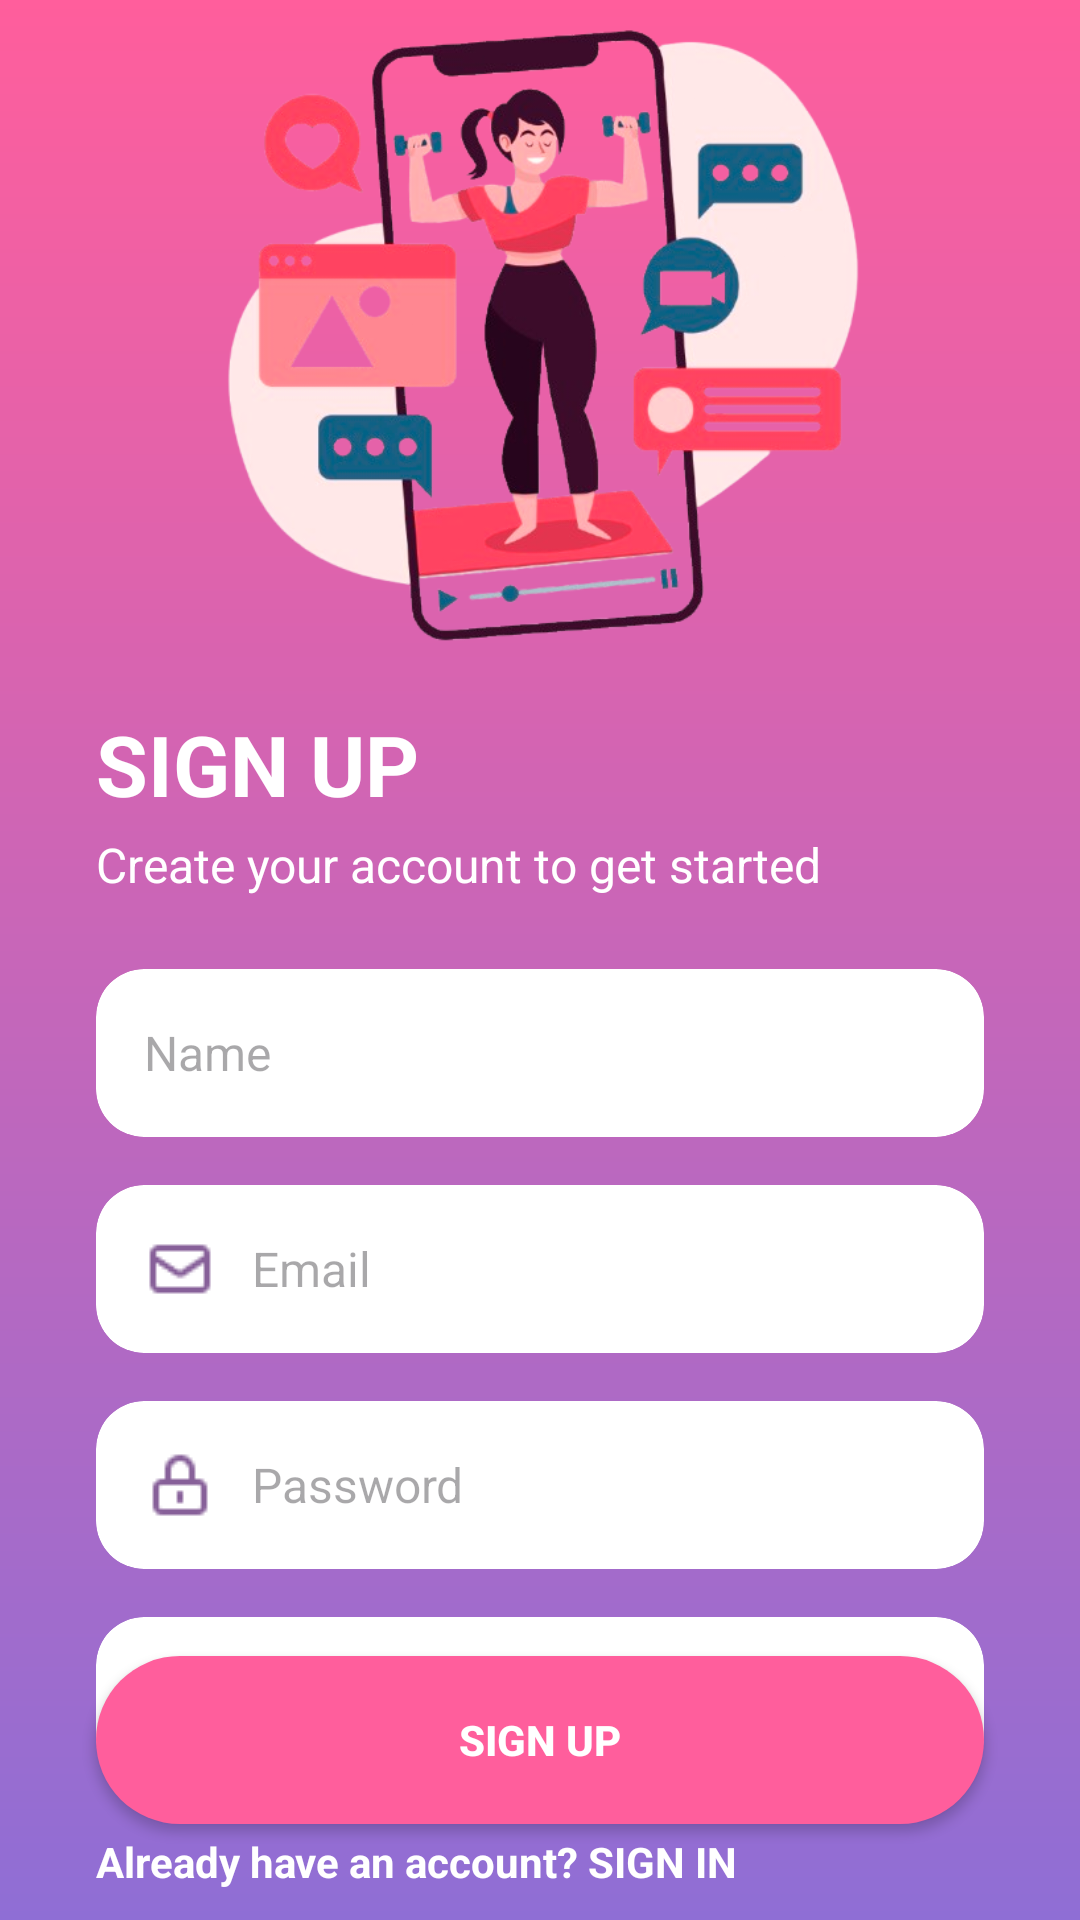

Locate icon controls on the screen. Image size 1080px x 1920px, boxes as bbox(x1, y1, x2, y2).
lock: bbox(152, 1454, 208, 1516)
